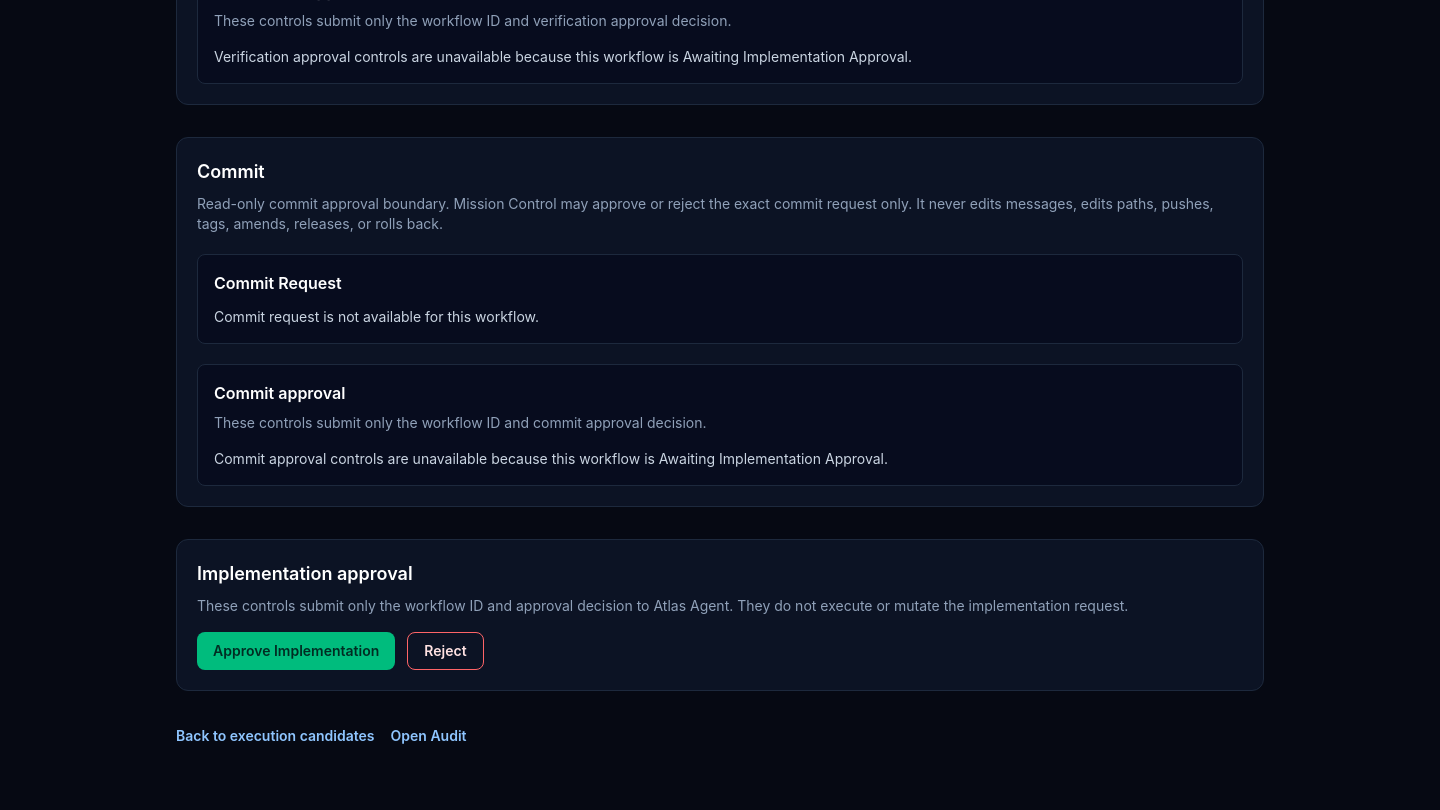
Test: WorkflowPage › submits reject with only workflow id and decision
(page scrolled)
Click the button "Reject" at (445, 651), box left=407, top=632, right=484, bottom=670
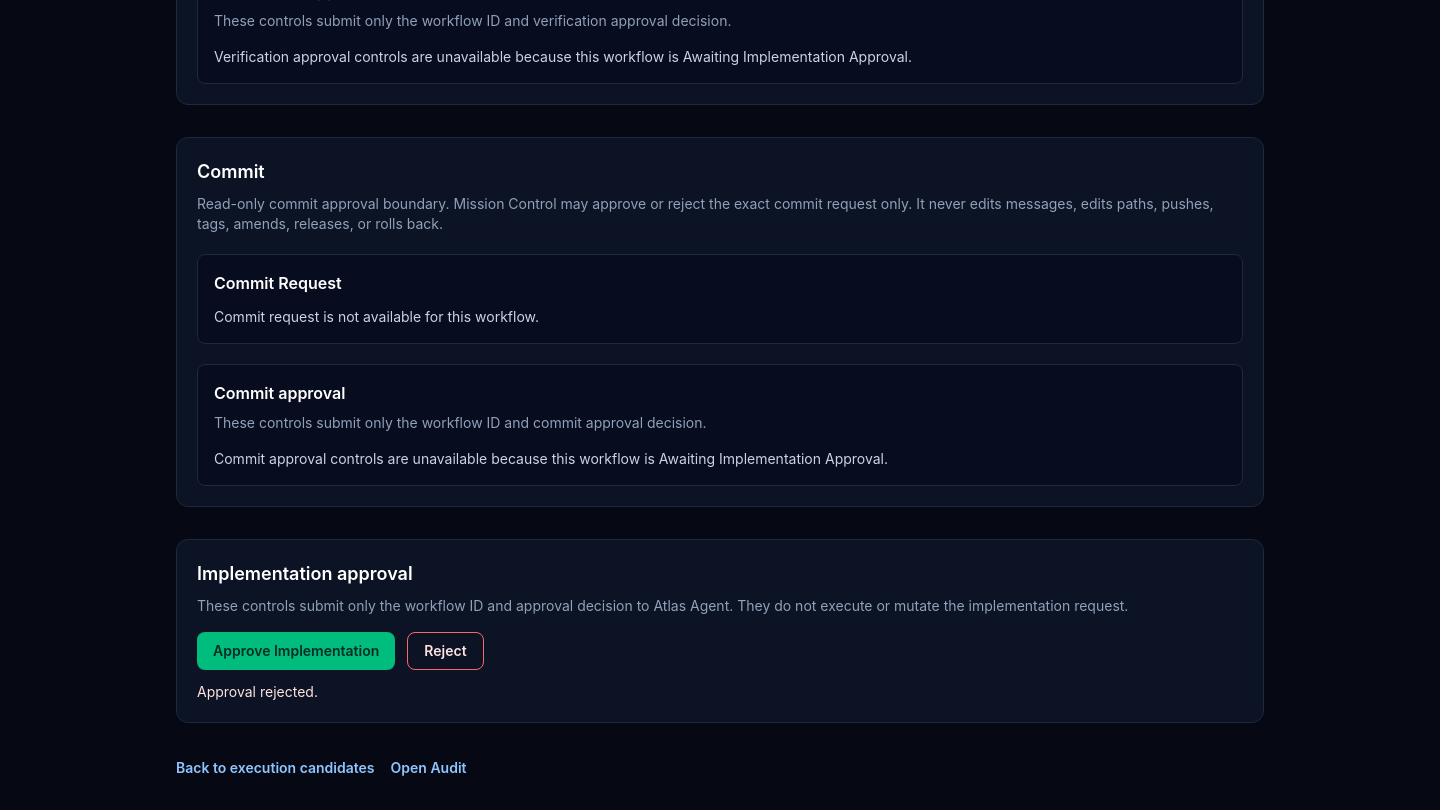
Expected: the text "Approval rejected." is shown, left=197, top=683, right=318, bottom=700
